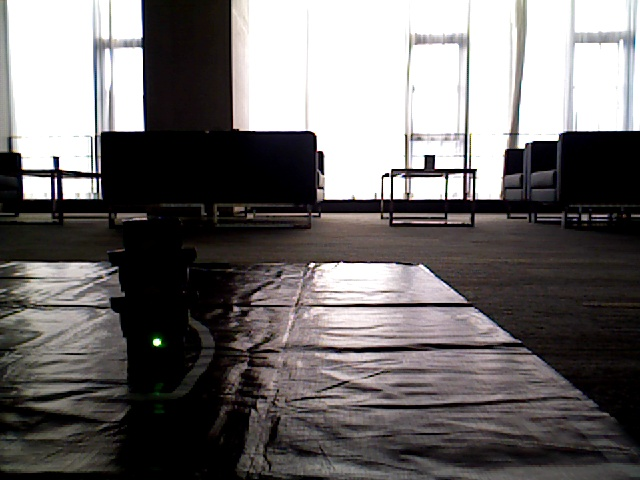green: (133, 223, 184, 369)
